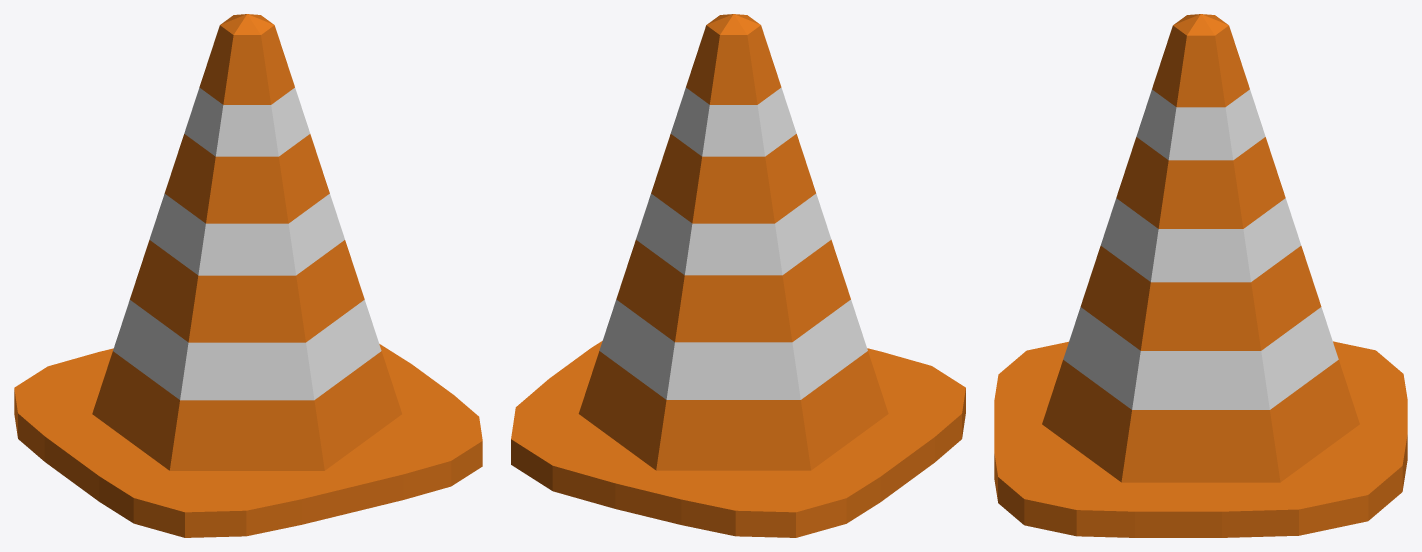
The model's file is Pylone.fbx.
3 views of the same model, side by side, from view 1: azimuth 30°, elevation 25°; view 2: azimuth 150°, elevation 25°; view 3: azimuth 270°, elevation 25° (orthographic). The views are drawn at different scales.
Visible parts, largest first — view 1: Pylone; view 2: Pylone; view 3: Pylone.
Part boxes in pixels (x1,y1,x2,y2): Pylone: [14, 14, 482, 537]; Pylone: [511, 14, 965, 537]; Pylone: [994, 14, 1407, 537].
Size of the model in its own units: 71.23 by 83 by 71.23.
